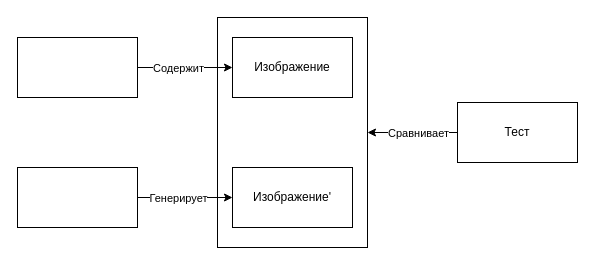
This 595x265 diagram has some shape labels left out. The centre of each missing label's shape, as x and y in pixels:
"AUT" belongs at (x=77, y=197).
"Эталон" belongs at (x=77, y=67).
